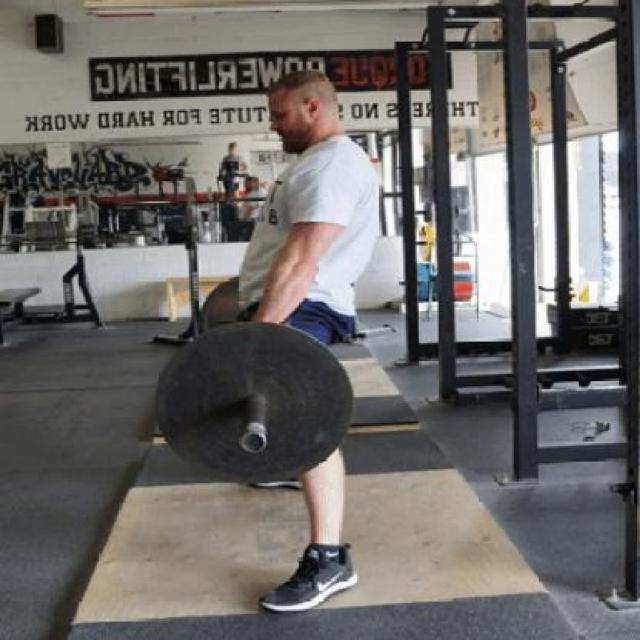Barbell: (238, 432, 270, 454)
